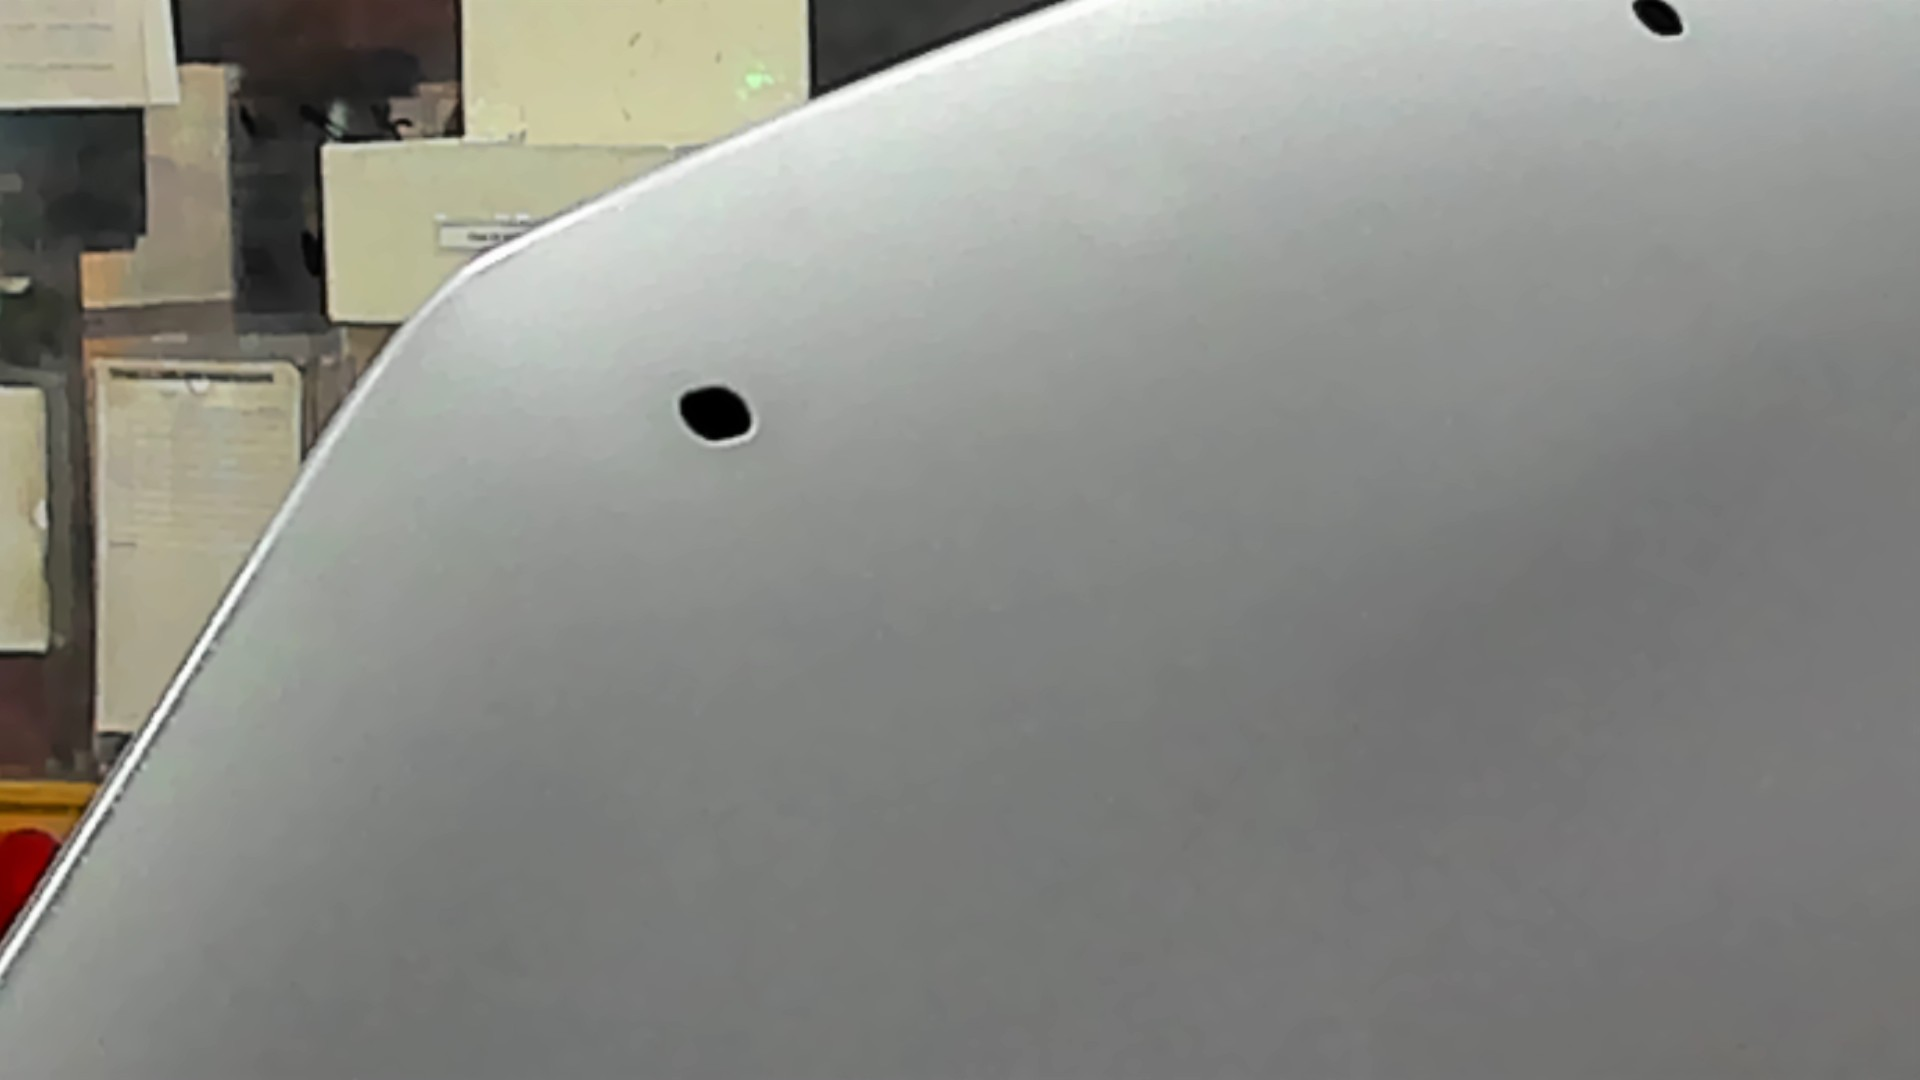chico: (665, 376, 766, 454), (1619, 1, 1695, 47)
